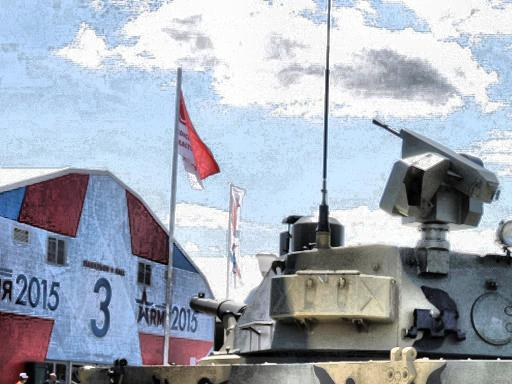tanks: (79, 131, 512, 384)
